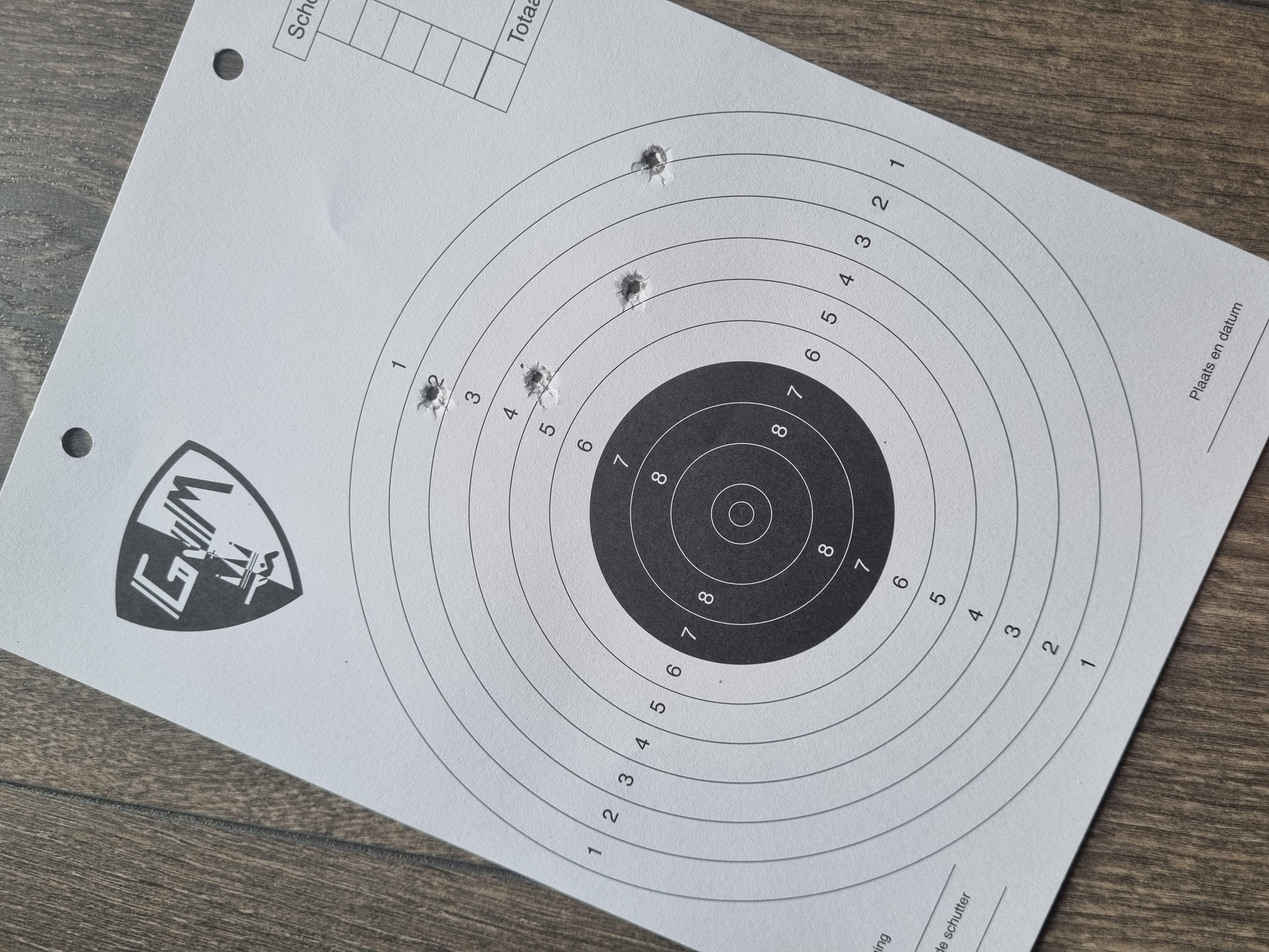hole: (1018, 474, 1075, 504), (850, 463, 911, 487), (721, 392, 783, 414), (711, 312, 759, 337)
